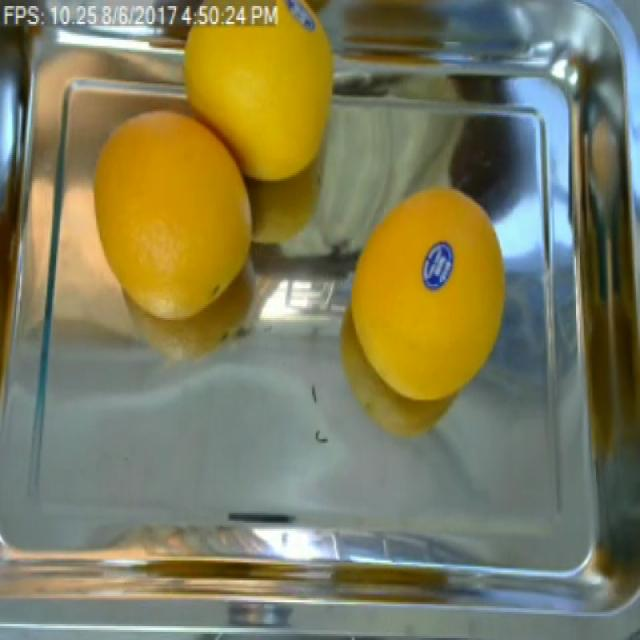Fruit: (438, 96, 554, 224)
